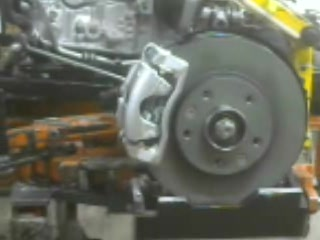DD3: (183, 28, 309, 188)
P3: (113, 39, 190, 166)
